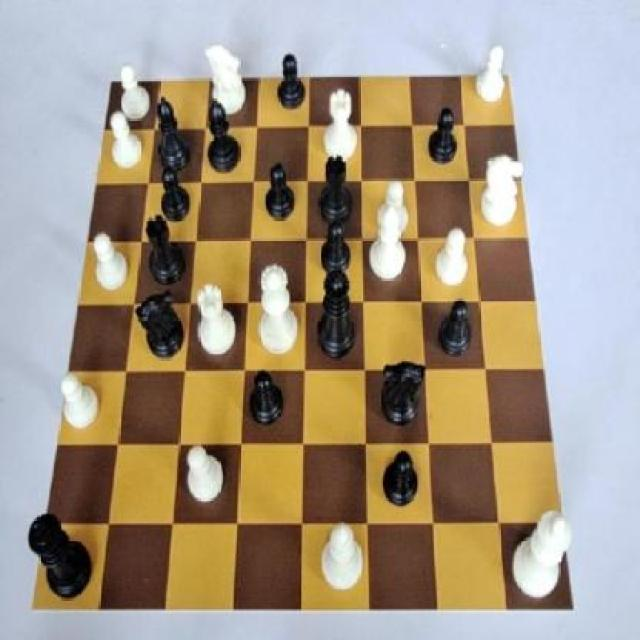bishop: (151, 91, 194, 176), (203, 94, 245, 178)
black-bishop: (23, 505, 105, 607)
black-king: (372, 354, 430, 434), (134, 282, 189, 366)
black-knight: (380, 440, 424, 521), (246, 363, 290, 435), (423, 100, 465, 173), (154, 160, 194, 228), (437, 294, 475, 363), (262, 160, 298, 228), (317, 214, 355, 278), (274, 48, 309, 114)
black-pawn: (314, 264, 361, 366)
black-queen: (142, 214, 190, 291), (316, 150, 360, 226)
black-rook: (368, 200, 413, 286), (318, 514, 364, 598)
white-bishop: (508, 504, 578, 606)
white-king: (200, 35, 252, 121), (475, 146, 524, 232)
white-knight: (54, 363, 103, 431), (181, 438, 227, 507), (112, 57, 158, 125), (88, 228, 134, 295), (103, 105, 147, 173), (431, 218, 472, 288), (474, 40, 511, 111), (374, 174, 411, 240)
white-pawn: (251, 257, 306, 359)
white-queen: (194, 278, 241, 362), (322, 82, 366, 165)
